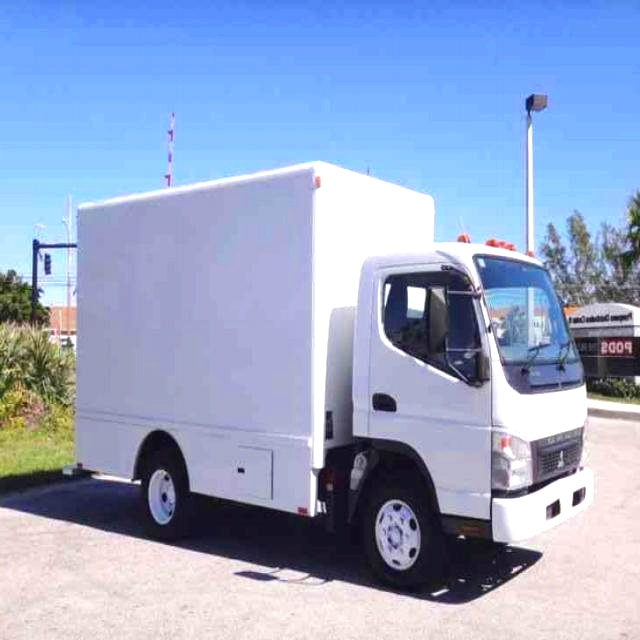truck: (28, 124, 609, 602)
